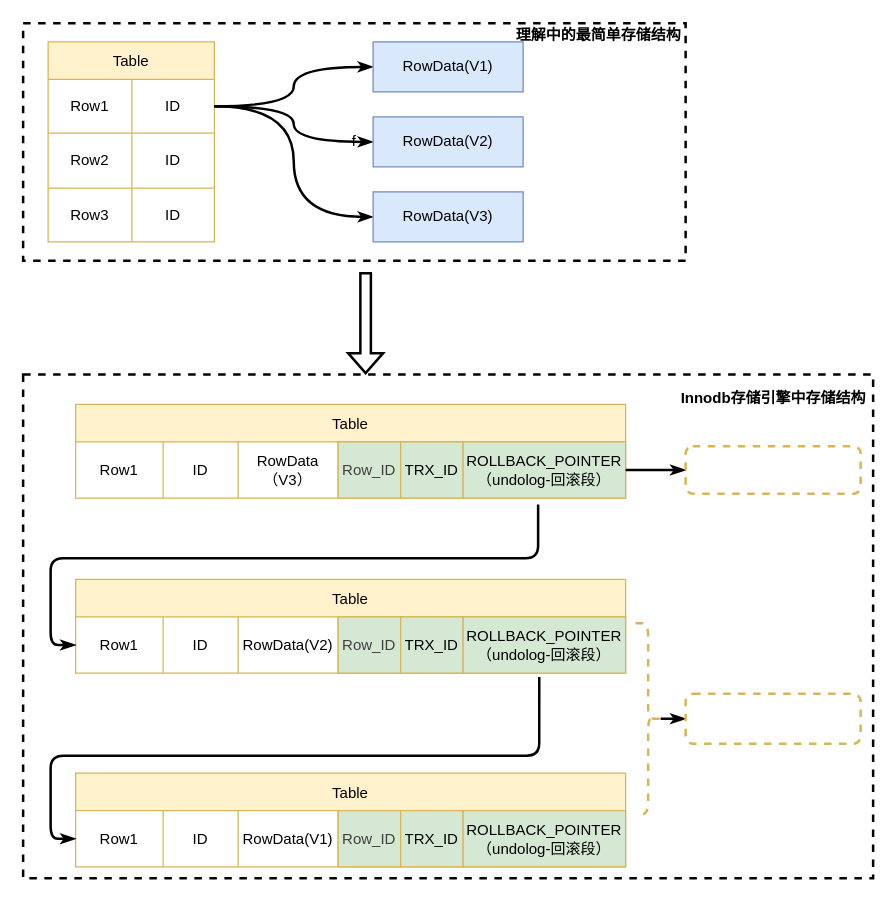
The diagram is 895 pixels wide and 900 high, and some of its shapes have lost their labels. Each missing label, with the box of its shape:
物理存储（存于磁盘）: (684, 444, 861, 494)
逻辑存储（存于unlog）: (684, 692, 861, 744)
